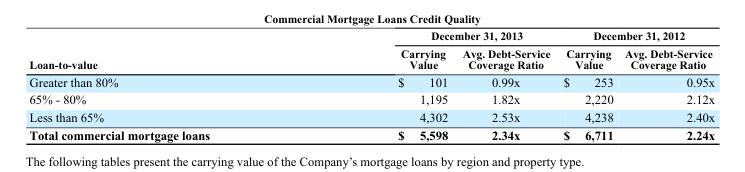table: (28, 29, 714, 141)
table column: (28, 29, 303, 141), (303, 29, 454, 141), (454, 29, 556, 141), (618, 29, 714, 141), (556, 29, 618, 141)
table column header: (28, 29, 714, 72)
table row: (28, 44, 714, 72), (28, 72, 714, 90), (28, 90, 714, 108), (28, 108, 714, 125), (28, 125, 714, 141), (28, 29, 714, 44)
table spanning cell: (28, 29, 303, 72), (303, 29, 556, 44), (556, 29, 714, 44)
